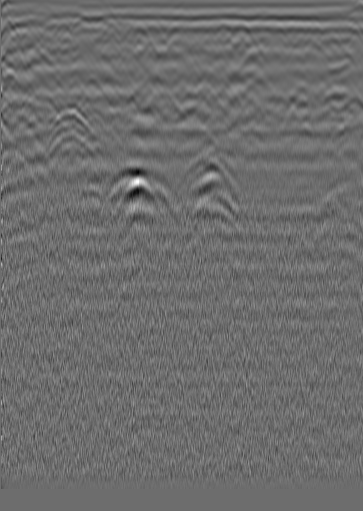가스: (111, 173, 159, 213)
상수: (307, 31, 327, 51)
오수: (17, 23, 37, 43)
우수: (164, 20, 184, 40)
